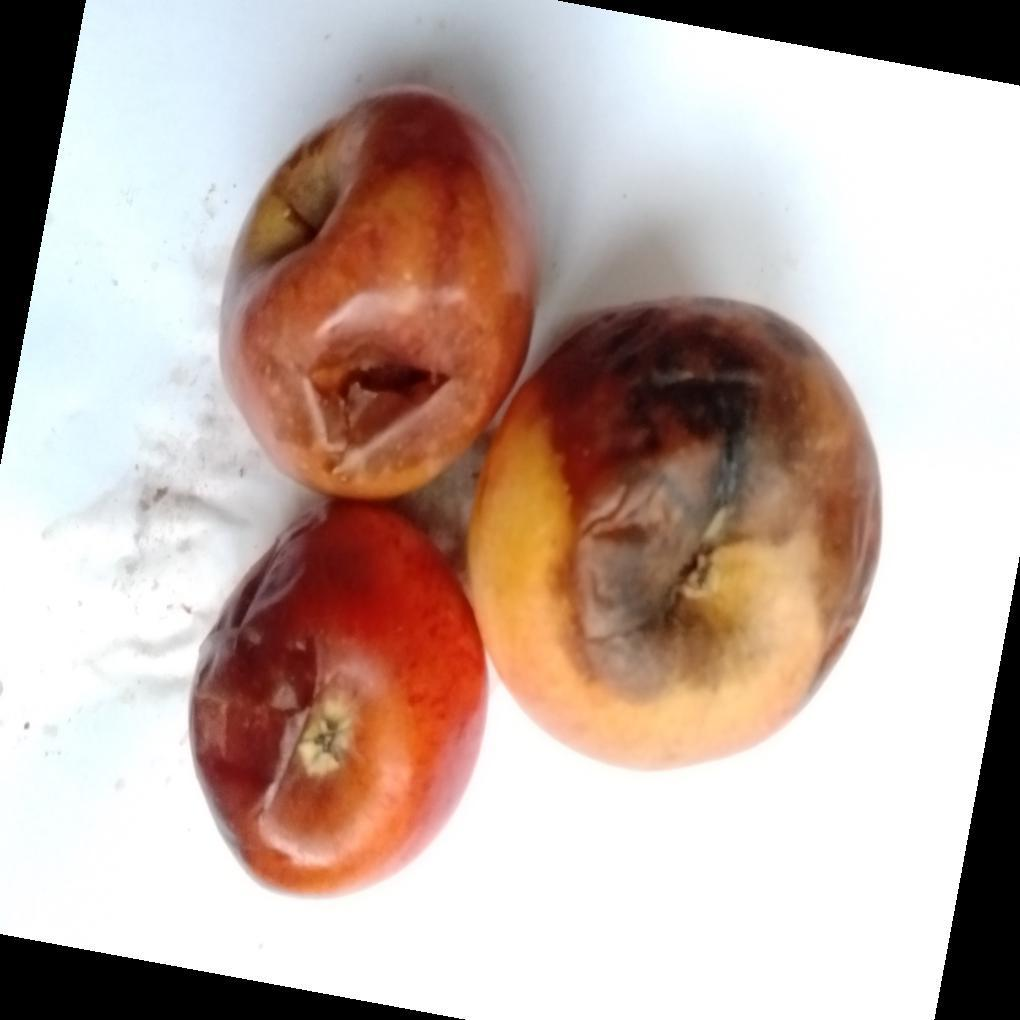FreshOrange: (189, 89, 885, 904)
